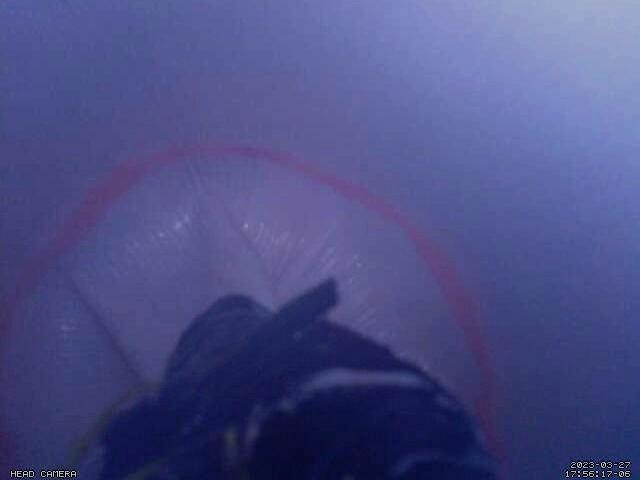head: (1, 141, 510, 480)
